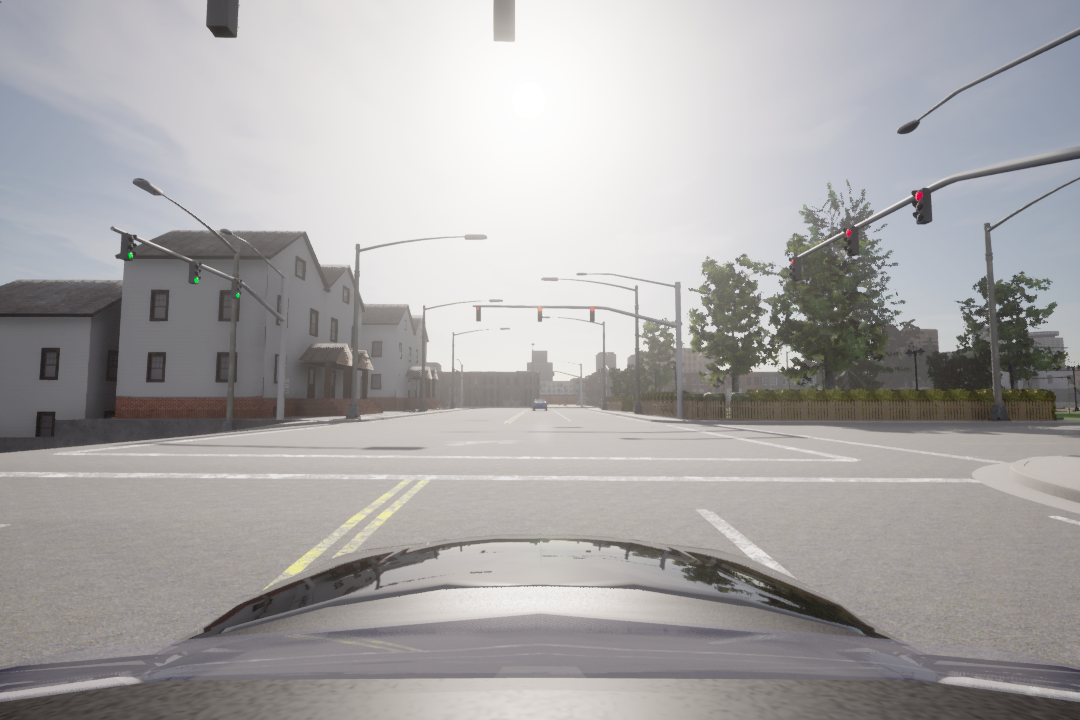TrafficLight: (114, 231, 141, 264), (910, 186, 933, 224), (841, 225, 864, 257), (788, 251, 804, 283), (188, 259, 202, 284), (231, 274, 241, 301), (587, 305, 598, 324), (473, 305, 483, 321), (533, 306, 543, 322)
